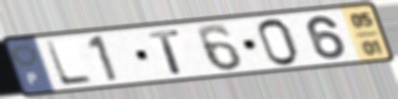0: (255, 17, 302, 67)
1: (86, 34, 122, 85)
6: (196, 22, 245, 73), (304, 14, 349, 61)
L: (42, 39, 96, 88)
T: (146, 28, 185, 75)
